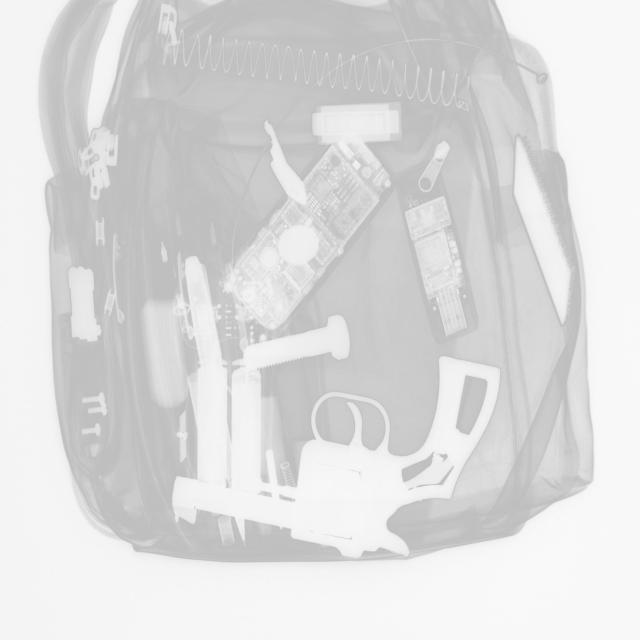pistol: (174, 356, 502, 558)
